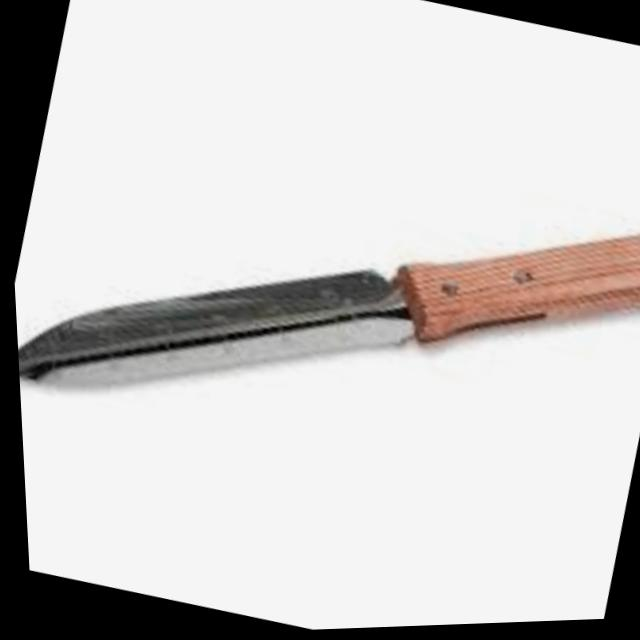Knife: (4, 77, 640, 528)
